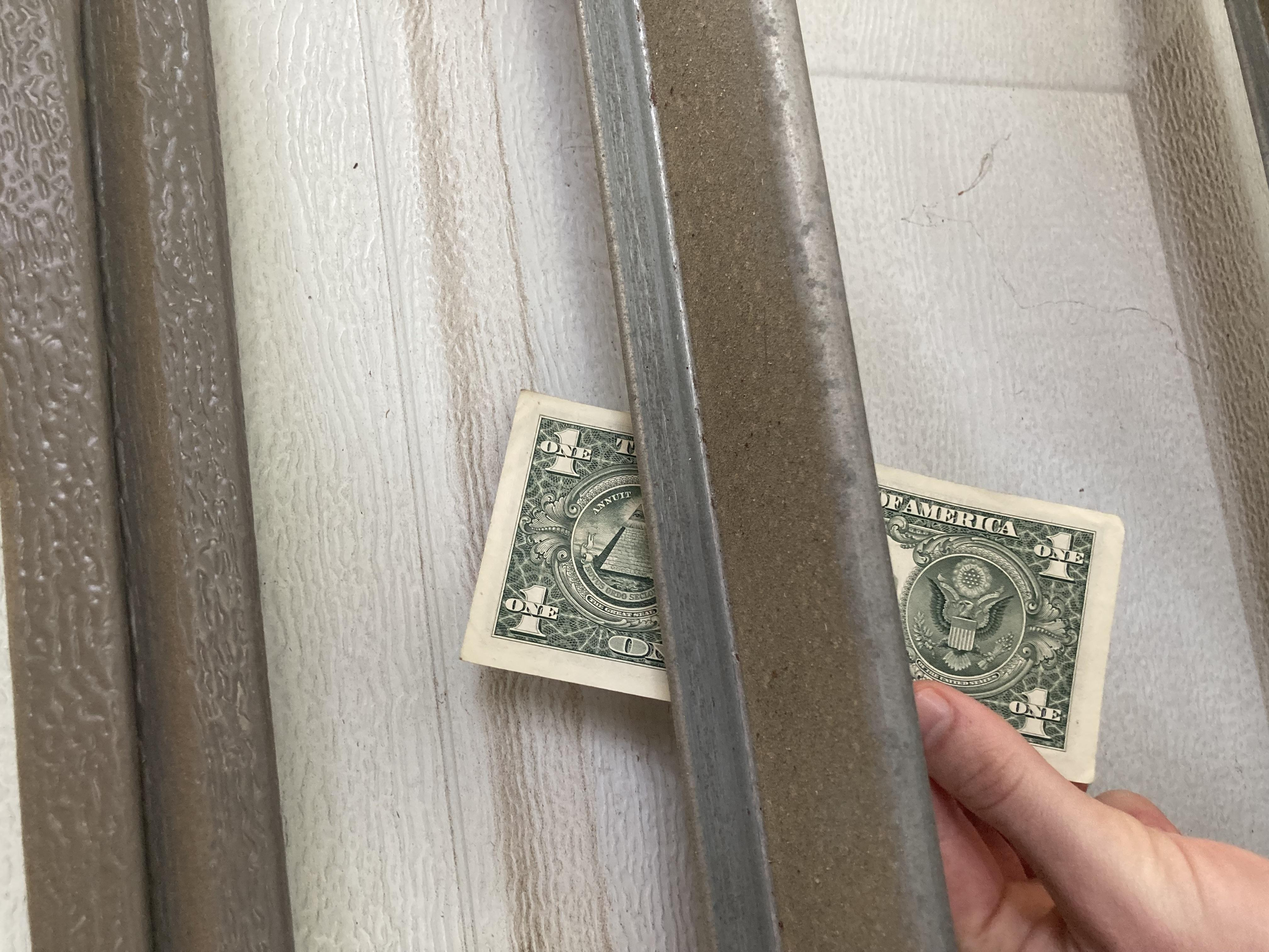one-back: (220, 345, 754, 846)
